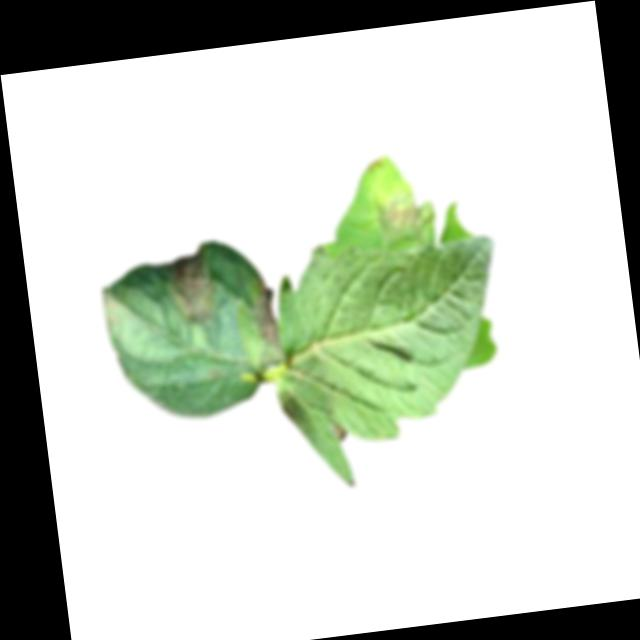Late_blight: (160, 243, 221, 328), (372, 184, 439, 249), (247, 274, 281, 354), (275, 385, 310, 432), (332, 422, 348, 445)
